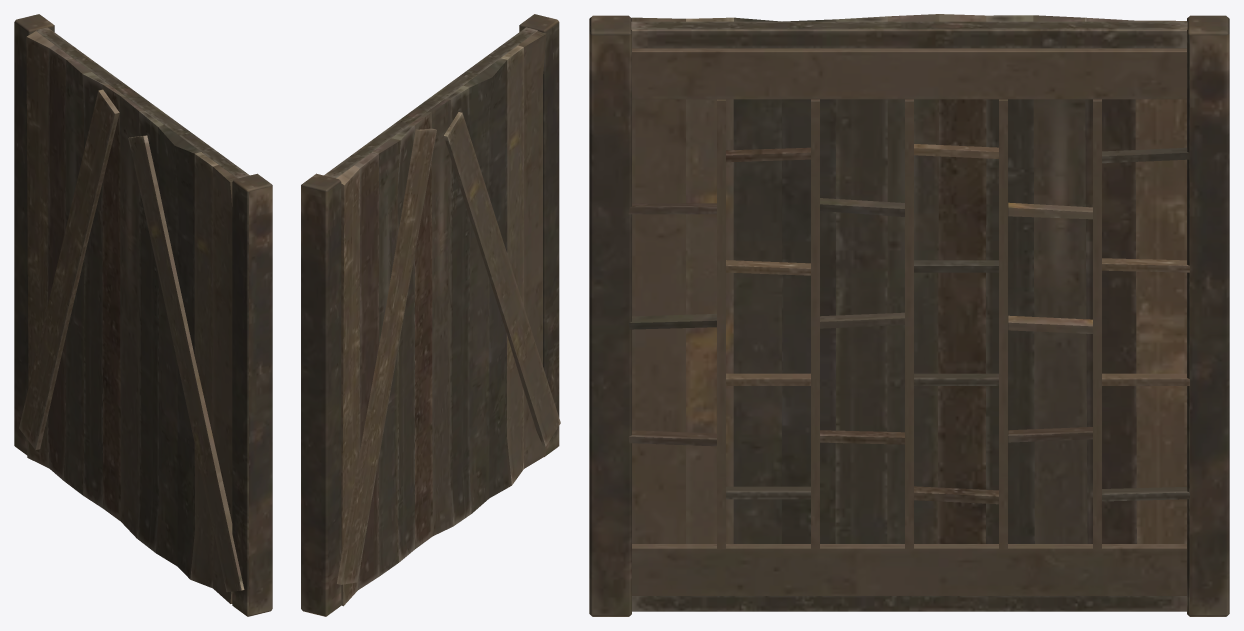
The model's file is wall.frontier.full_c.glb.
3 views of the same model, side by side, from view 1: azimuth 30°, elevation 25°; view 2: azimuth 150°, elevation 25°; view 3: azimuth 270°, elevation 25° (orthographic). The views are drawn at different scales.
Visible parts, largest first — view 1: wall_c_LOD0; view 2: wall_c_LOD0; view 3: wall_c_LOD0.
Part boxes in pixels (x1=…): wall_c_LOD0: x1=14, y1=14, x2=272, y2=616; wall_c_LOD0: x1=301, y1=14, x2=560, y2=616; wall_c_LOD0: x1=589, y1=14, x2=1229, y2=616.
Bounding box in the file's own units: 0.2379 × 3.04 × 3.
1 material, 1 textured.
